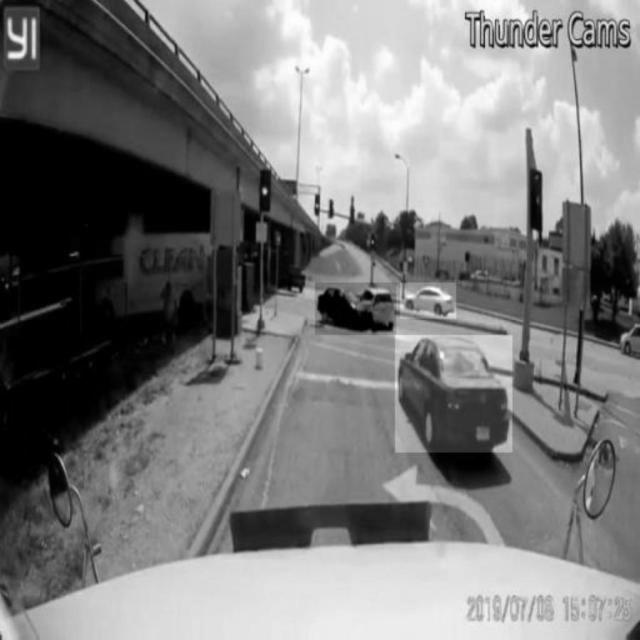accident: (315, 283, 396, 335)
vehicle: (395, 335, 513, 453), (400, 283, 456, 319)
